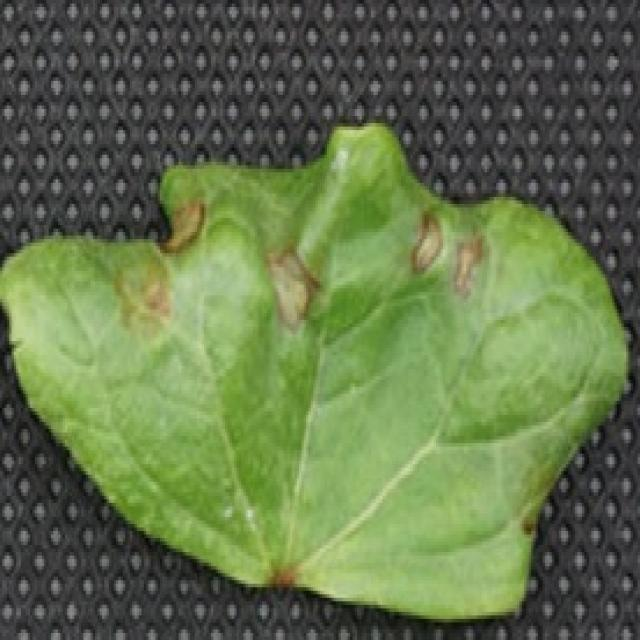Fusarium Wilt: (398, 206, 502, 298), (261, 234, 333, 342)
